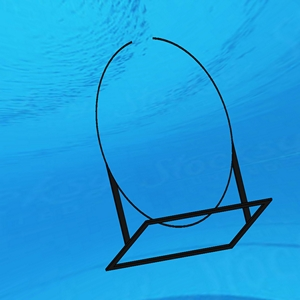circle: (95, 35, 274, 271)
